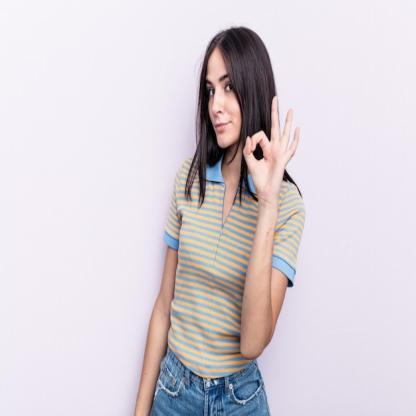ok: (242, 91, 303, 209)
